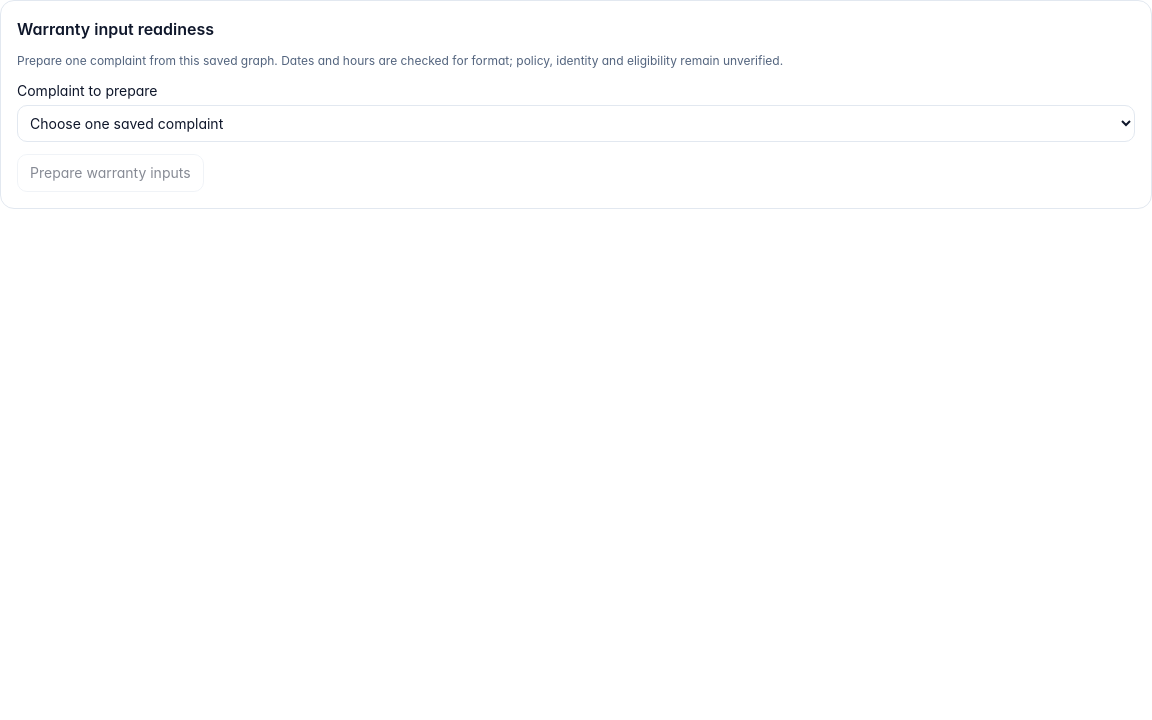
it: drops late responses on case changes and preserves independent case selection
This screenshot has width=1152, height=720.
Select "t1" in the dropdown labelled "Complaint to prepare" at (576, 124), box [17,105,1135,142]
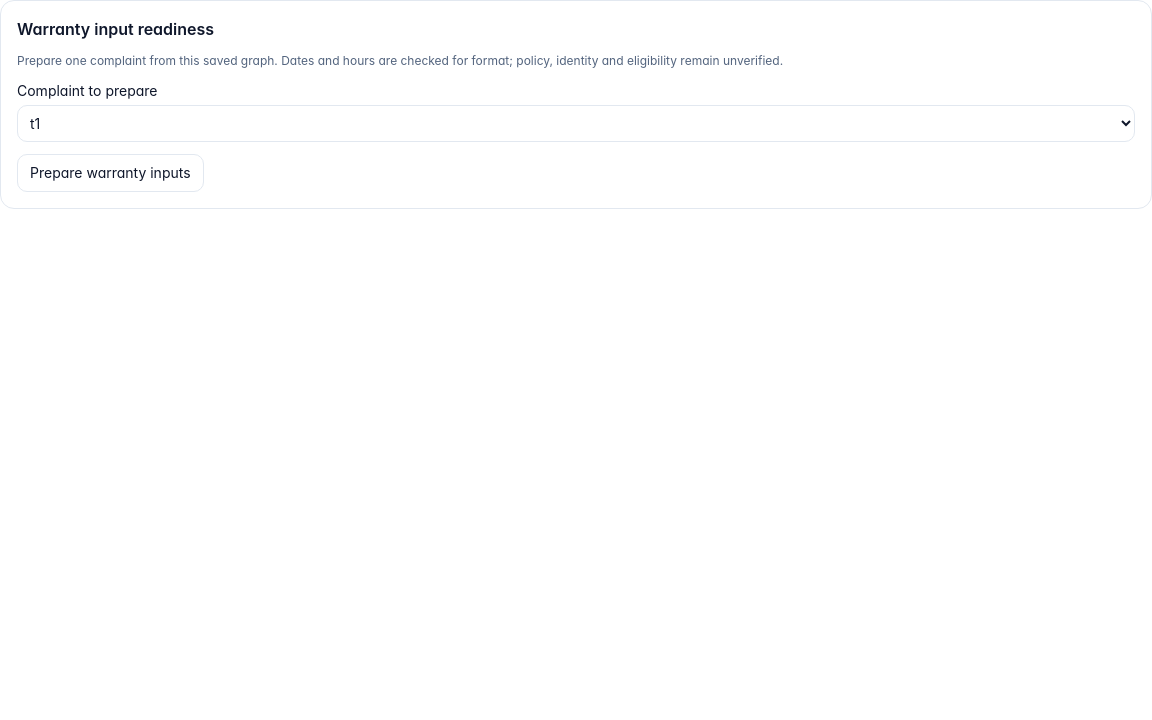
Click the button "Prepare warranty inputs" at (110, 173), box [17,154,204,192]
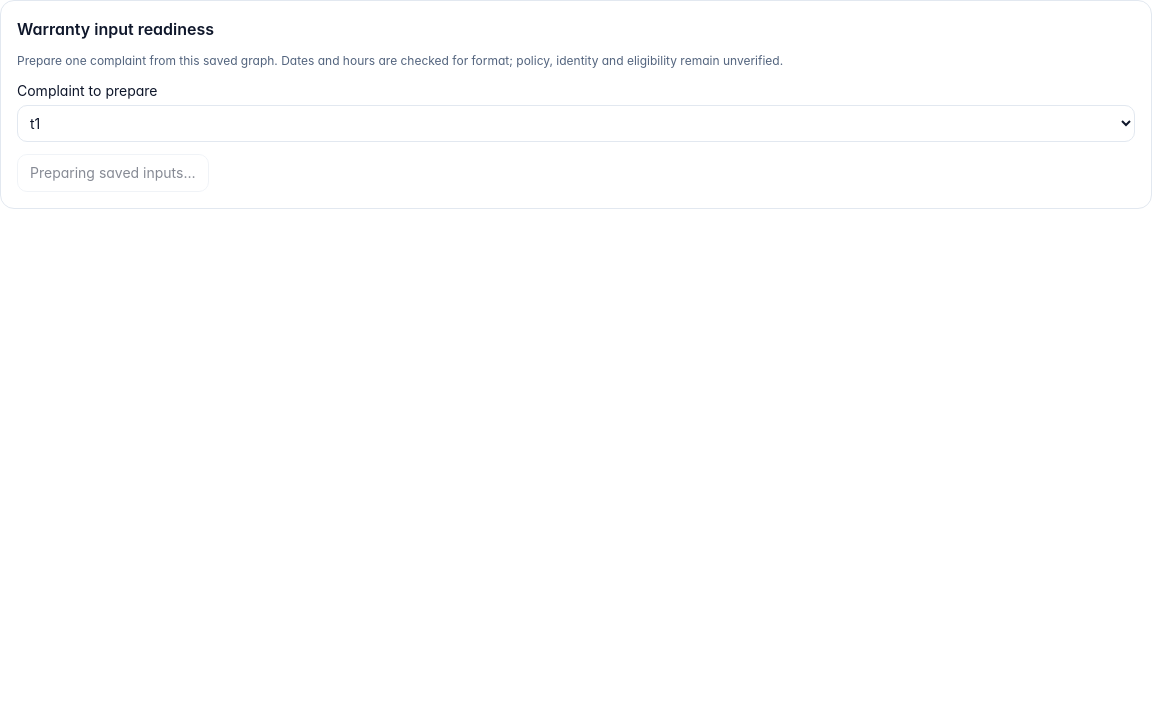
Select "t2" in the dropdown labelled "Complaint to prepare" at (576, 124), box [17,105,1135,142]
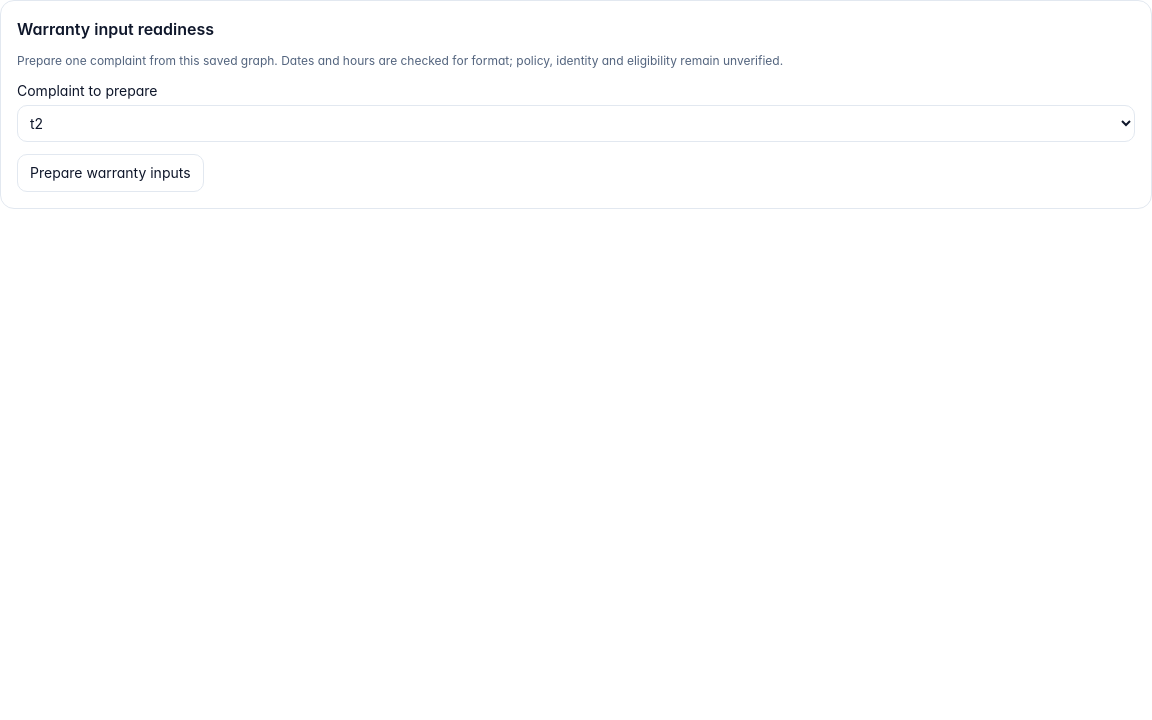
Check: the text "Eligibility not evaluated" is not shown
Click the button "Prepare warranty inputs" at (110, 173), box [17,154,204,192]
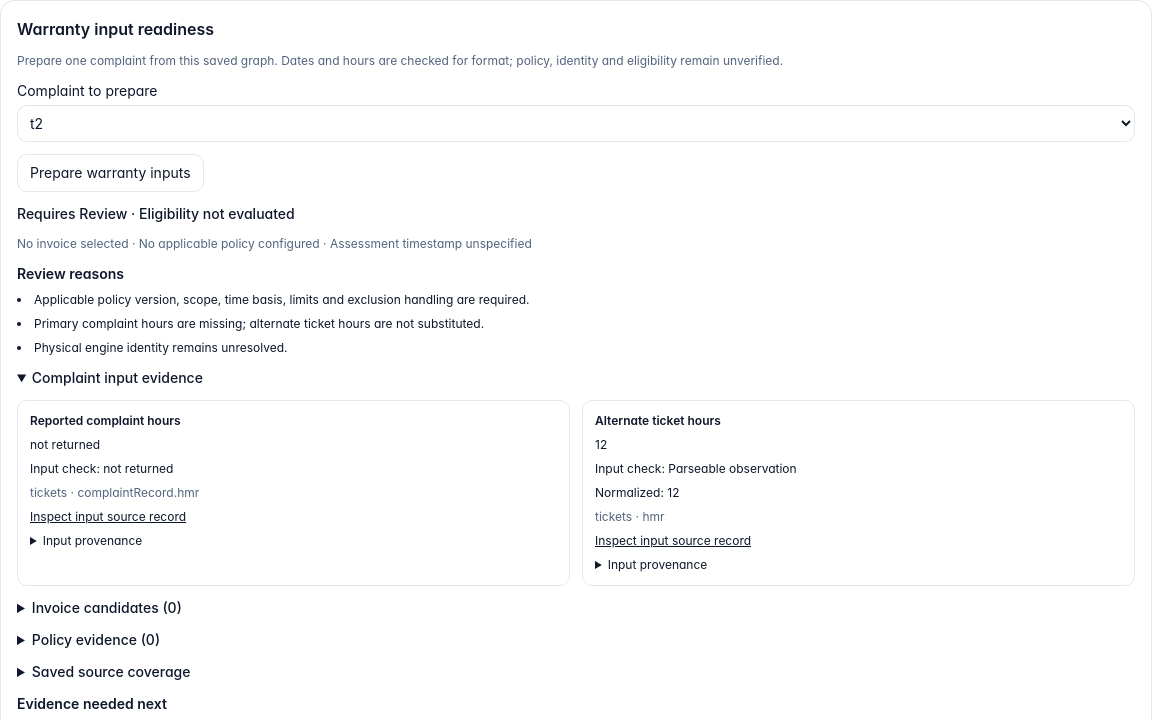
Check: the text "Requires Review · Eligibility not evaluated" is shown, box [17,205,295,222]
